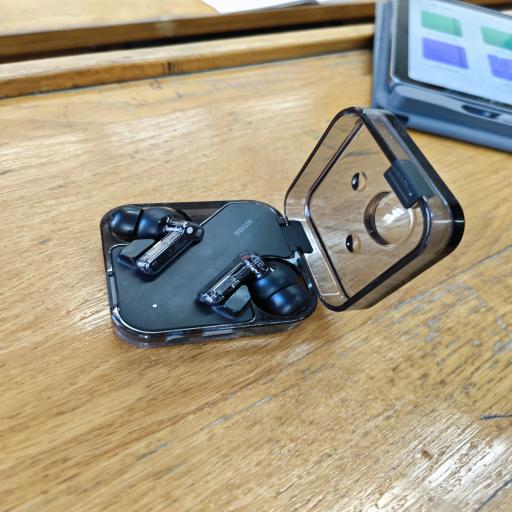Headphones: (90, 102, 472, 352)
